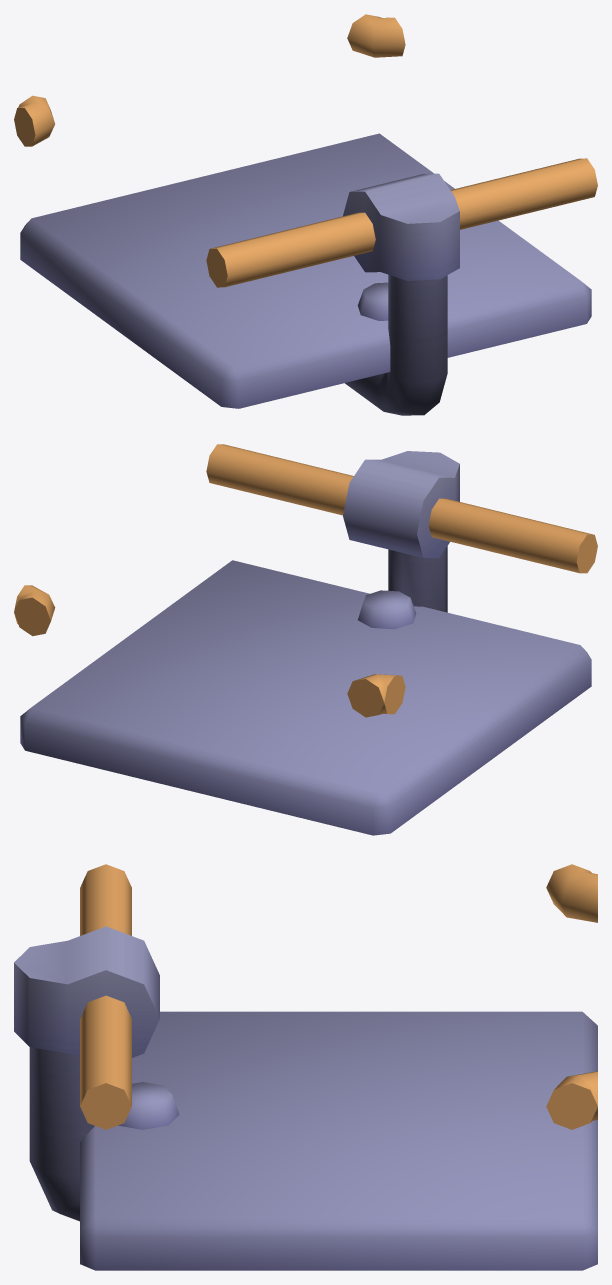
The model's file is catwalk-junction.glb.
3 renders of one model, top to bottom at view 1: azimuth 30°, elevation 25°; view 2: azimuth 150°, elevation 25°; view 3: azimuth 270°, elevation 25°, orthographic. The views are drawn at different scales.
Visible parts, largest first — view 1: catwalk-junction; view 2: catwalk-junction; view 3: catwalk-junction.
Part boxes in pixels (bbox=[...]): catwalk-junction: bbox=[14, 14, 597, 415]; catwalk-junction: bbox=[14, 444, 597, 835]; catwalk-junction: bbox=[14, 864, 597, 1270].
Size of the model in its own units: 1 by 0.6014 by 1.13.
1 material, 1 textured.
